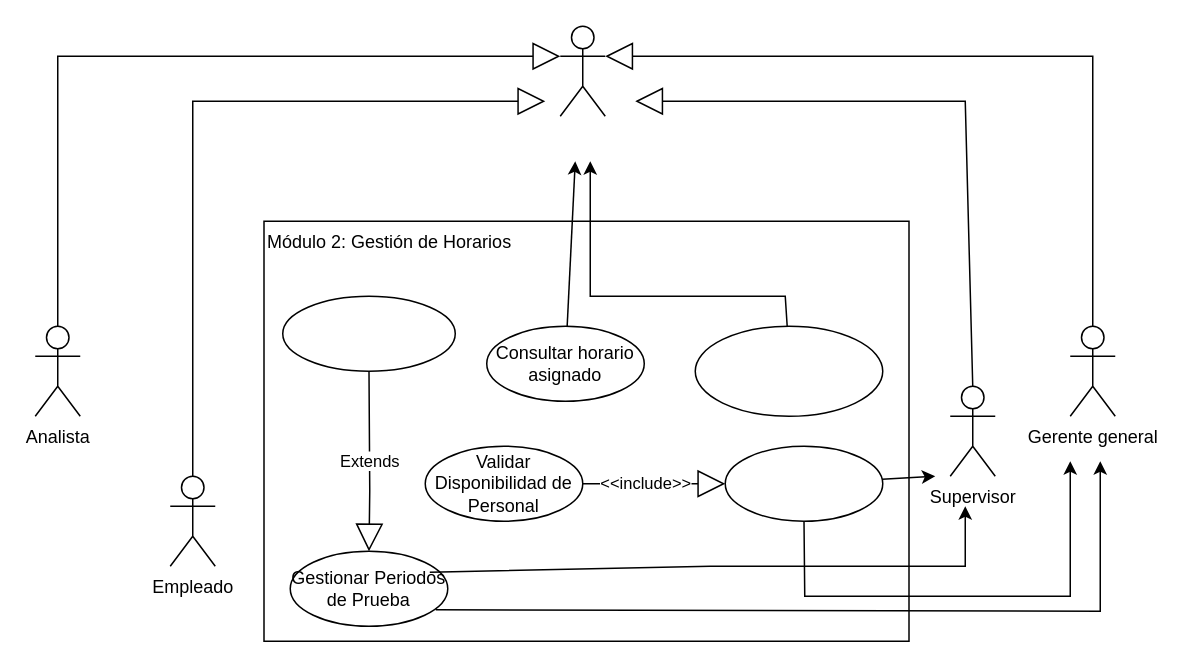
The diagram is 1184 pixels wide and 668 high, and some of its shapes have lost their labels. The centre of each missing label's shape, as x and y in pixels:
Asignar Horarios y Turnos: (803,483)
Consultar Consolidado de Horas Trabajadas: (788,370)
Dar de Baja por Periodo de Prueba Fallido: (368,333)
Usuario Autenticado: (582,70)
